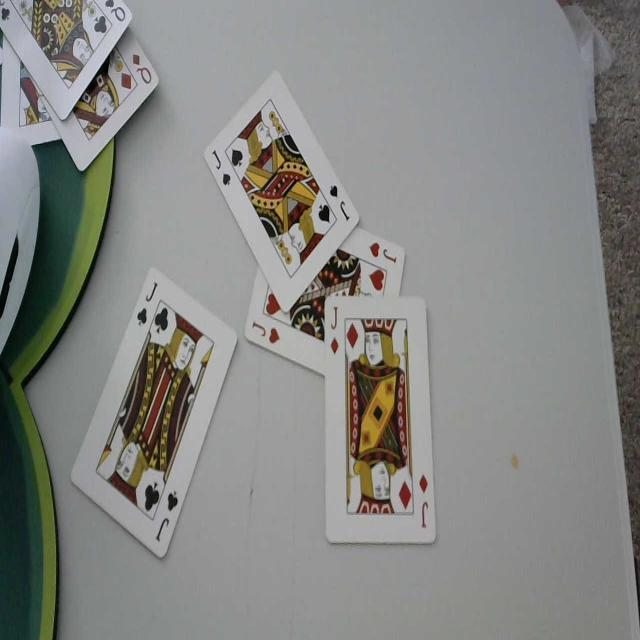JC: (155, 489, 180, 544), (135, 279, 159, 330)
JD: (416, 473, 432, 532), (327, 303, 342, 358)
JH: (249, 317, 282, 347), (369, 239, 399, 268)
JS: (327, 183, 351, 225), (212, 146, 232, 188)
QD: (131, 49, 153, 87)
